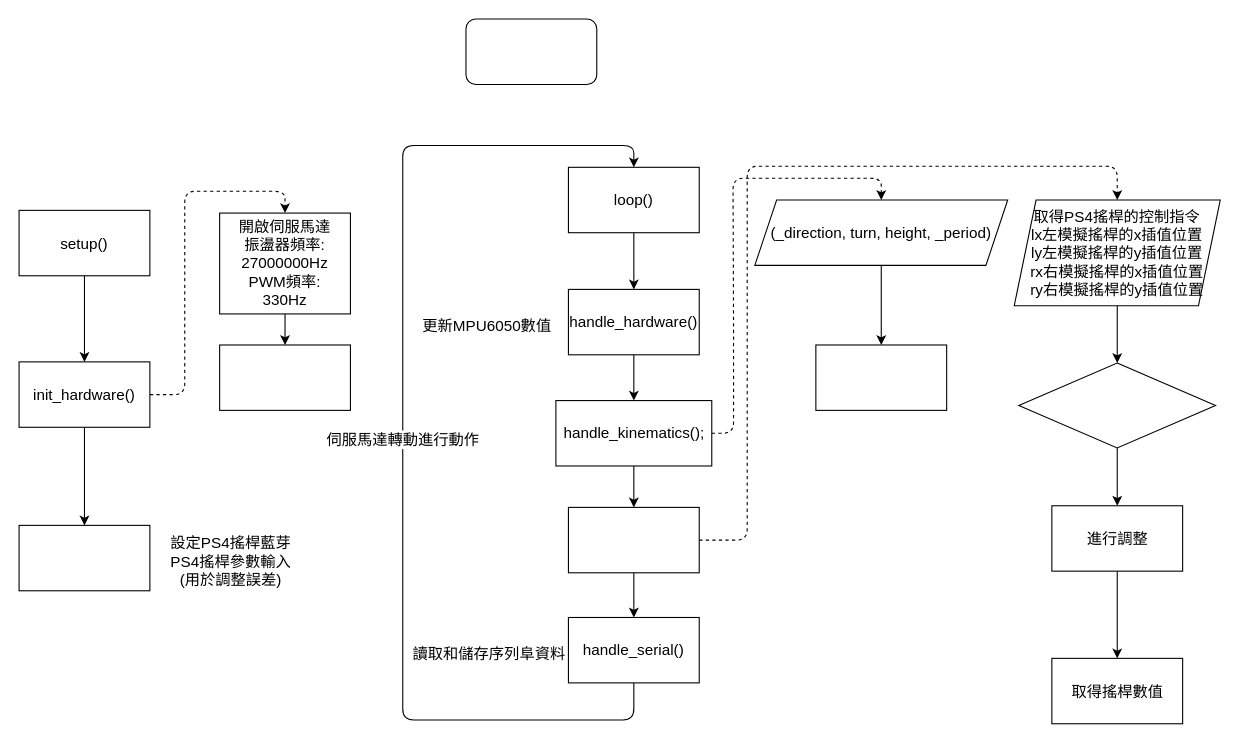
The diagram is 1239 pixels wide and 748 high, and some of its shapes have lost their labels. Each missing label, with the centre of its shape:
"handle_input()" belongs at (x=633, y=539).
"init_input();" belongs at (x=84, y=557).
"使用這4個參數進行腿部位置更新、腿部關節角度更新" belongs at (x=881, y=377).
"啟動I2C I2C頻率400000" belongs at (x=284, y=377).
"四足機器狗" belongs at (x=531, y=51).
"檢查各數值是否有誤差" belongs at (x=1117, y=405).
